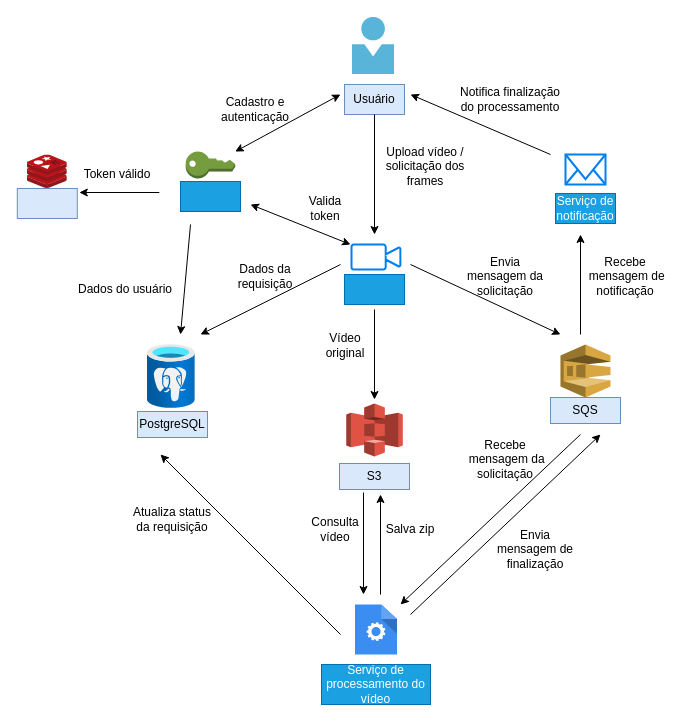
Some shapes in this 698 by 723 pixel diagram are drawn without their labels. The box of each missing label's shape, as (x1, y1, x2, y2) in pixels:
Cache Redis: (16, 188, 77, 218)
Serviço de autorização: (180, 180, 240, 212)
Serviço de vídeo: (344, 274, 404, 304)
